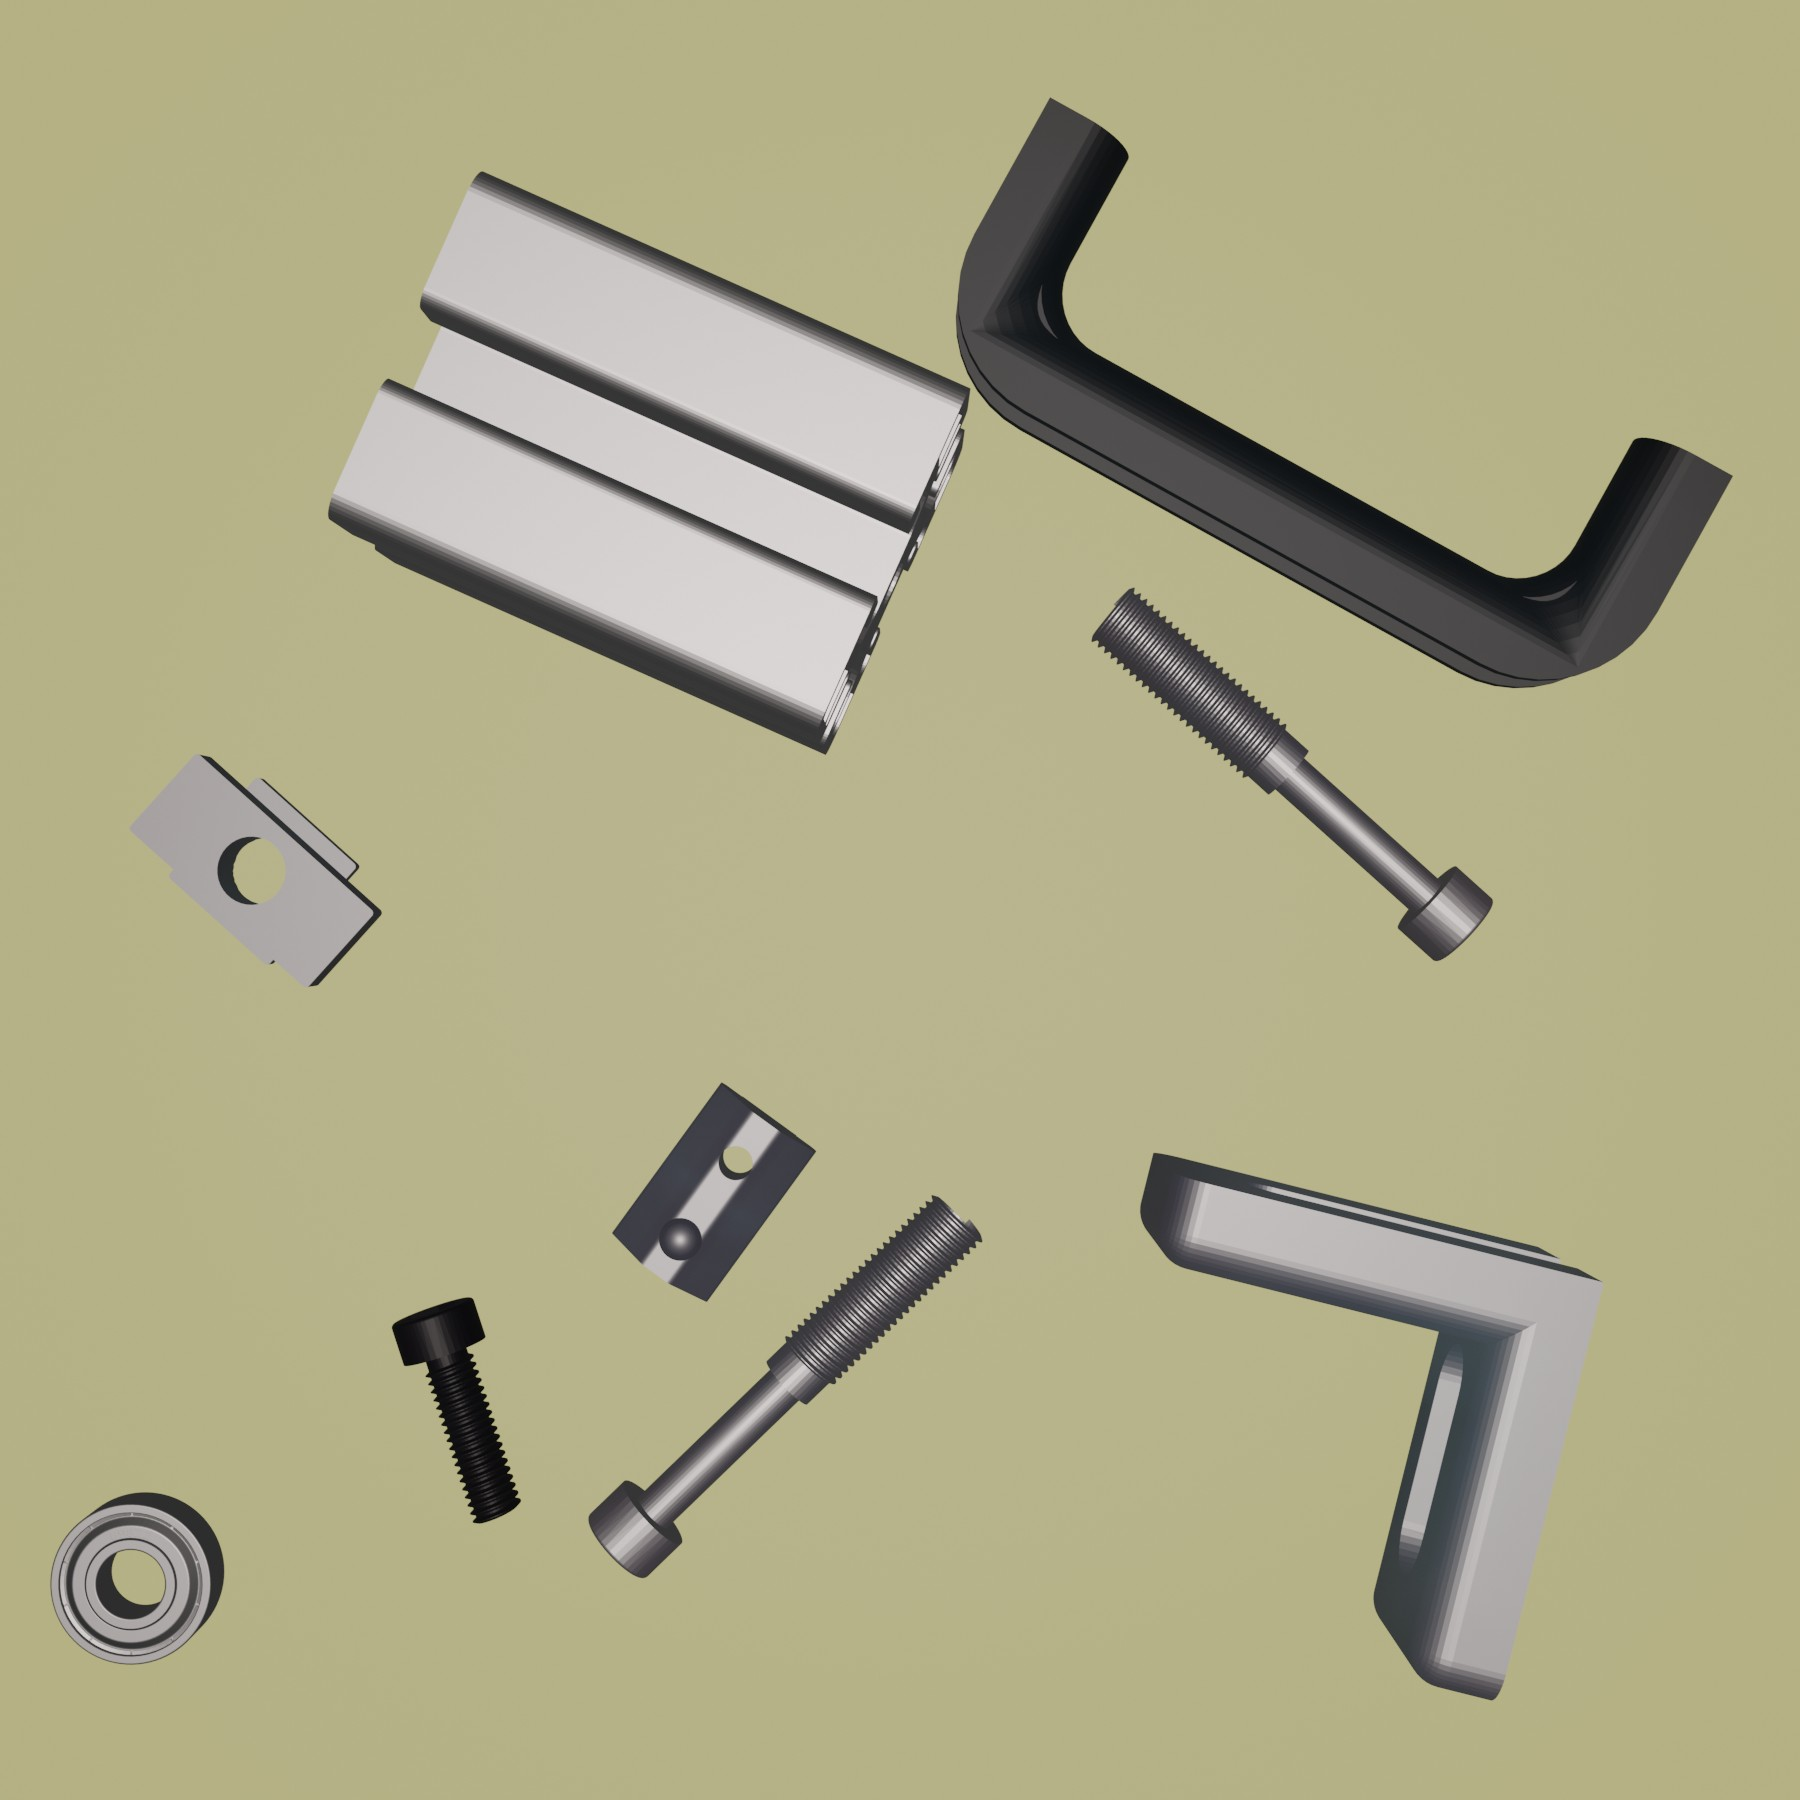Aluminium Extension: (326, 170, 971, 757)
Ball Bearing: (46, 1488, 224, 1666)
Multiwinkel: (1137, 1149, 1605, 1704)
Pull Handle: (954, 92, 1732, 689)
Shoulder Socket Head Cap Screw: (585, 1192, 986, 1581), (1090, 584, 1493, 964)
Socket Head Cap Screw: (387, 1291, 521, 1526)
T Nut Square: (129, 753, 382, 989)
T Spring Nut: (612, 1081, 818, 1305)
